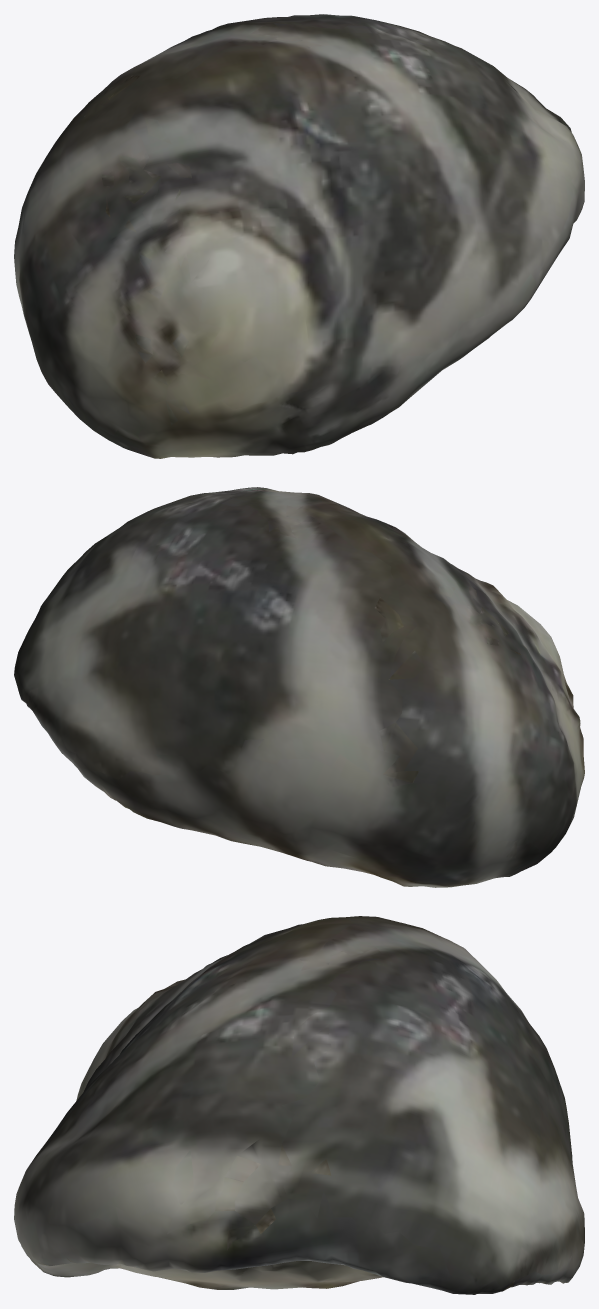
The model's file is nerite.glb.
The picture shows the model from 3 angles, top to bottom: view 1: azimuth 30°, elevation 25°; view 2: azimuth 150°, elevation 25°; view 3: azimuth 270°, elevation 25°; orthographic projection. The views are drawn at different scales.
Visible parts, largest first — view 1: low; view 2: low; view 3: low.
Part boxes in pixels (x1,y1,x2,y2): low: [14, 14, 584, 458]; low: [14, 487, 584, 887]; low: [14, 916, 584, 1294].
Size of the model in its own units: 1.98 by 1.31 by 1.65.
Materials: 1 (1 with a texture image).
